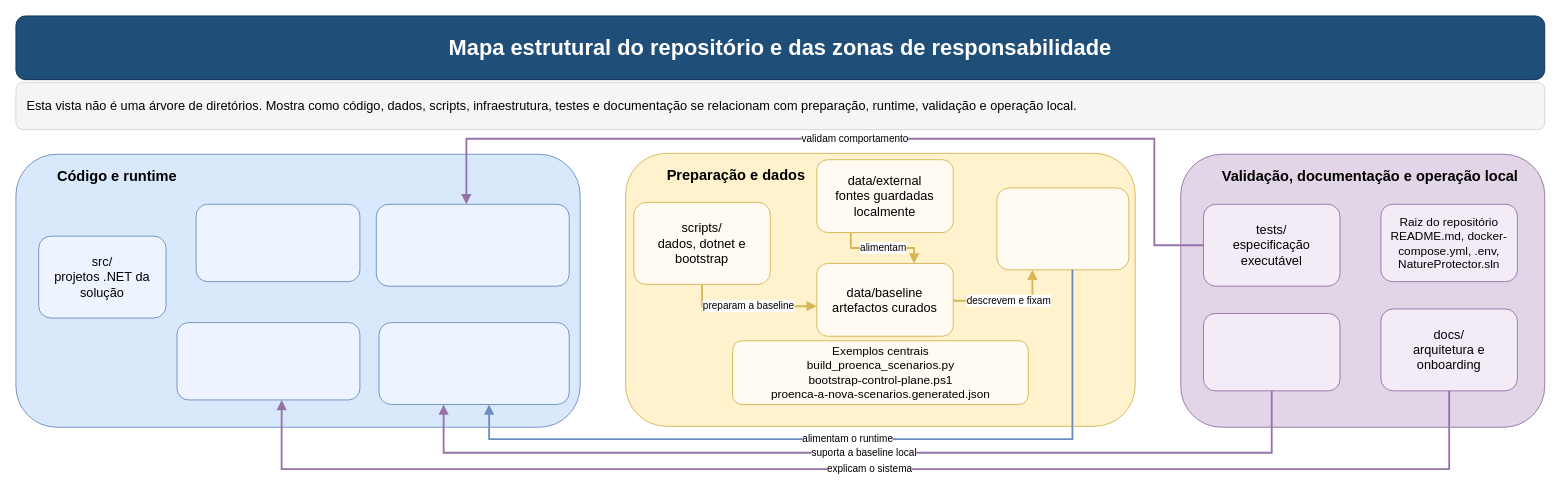
The diagram is 1561 pixels wide and 493 high, and some of its shapes have lost their labels. Each missing label, with the centre of its shape:
"data/manifests datasets e cenários" belongs at (x=1062, y=228).
"infra/ baseline local e Grafana" belongs at (x=1271, y=352).
"Infrastructure.Postgres / Influx persistência e integração" belongs at (x=277, y=242).
"NatureProtector.Backoffice.Api lê estado atual" belongs at (x=268, y=361).
"NatureProtector.Prevention.Host consome, persiste e processa" belongs at (x=472, y=244).
"NatureProtector.Simulator.Host gera e publica leituras" belongs at (x=473, y=363).
